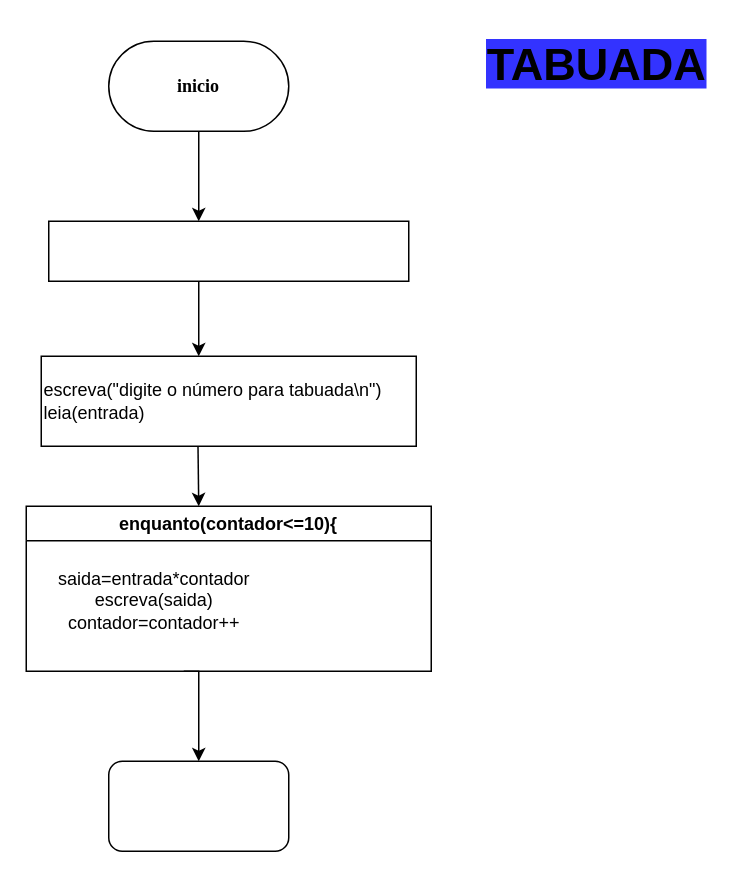
Some shapes in this 750 by 878 pixel diagram are drawn without their labels. Each missing label, with the centre of its shape:
"FIM" belongs at point 198,805.
"inteiro entrada=0, contador=1, saida=0" belongs at point 228,250.
